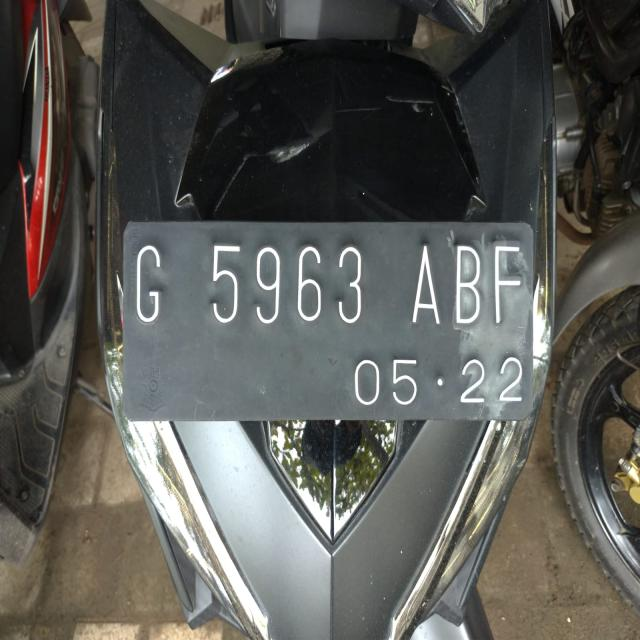plate: (121, 222, 533, 416)
